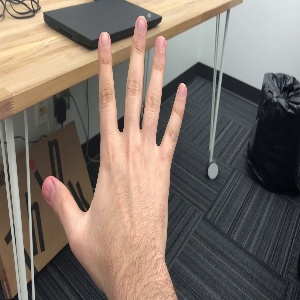hand: (42, 14, 188, 265)
